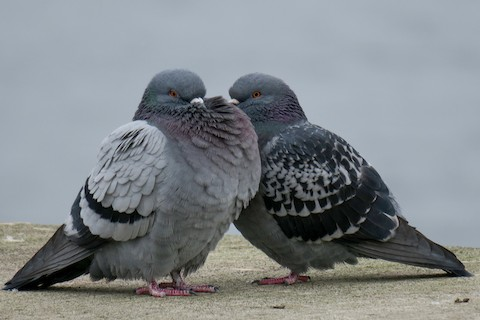pigeon: (4, 60, 266, 304), (212, 72, 476, 294)
